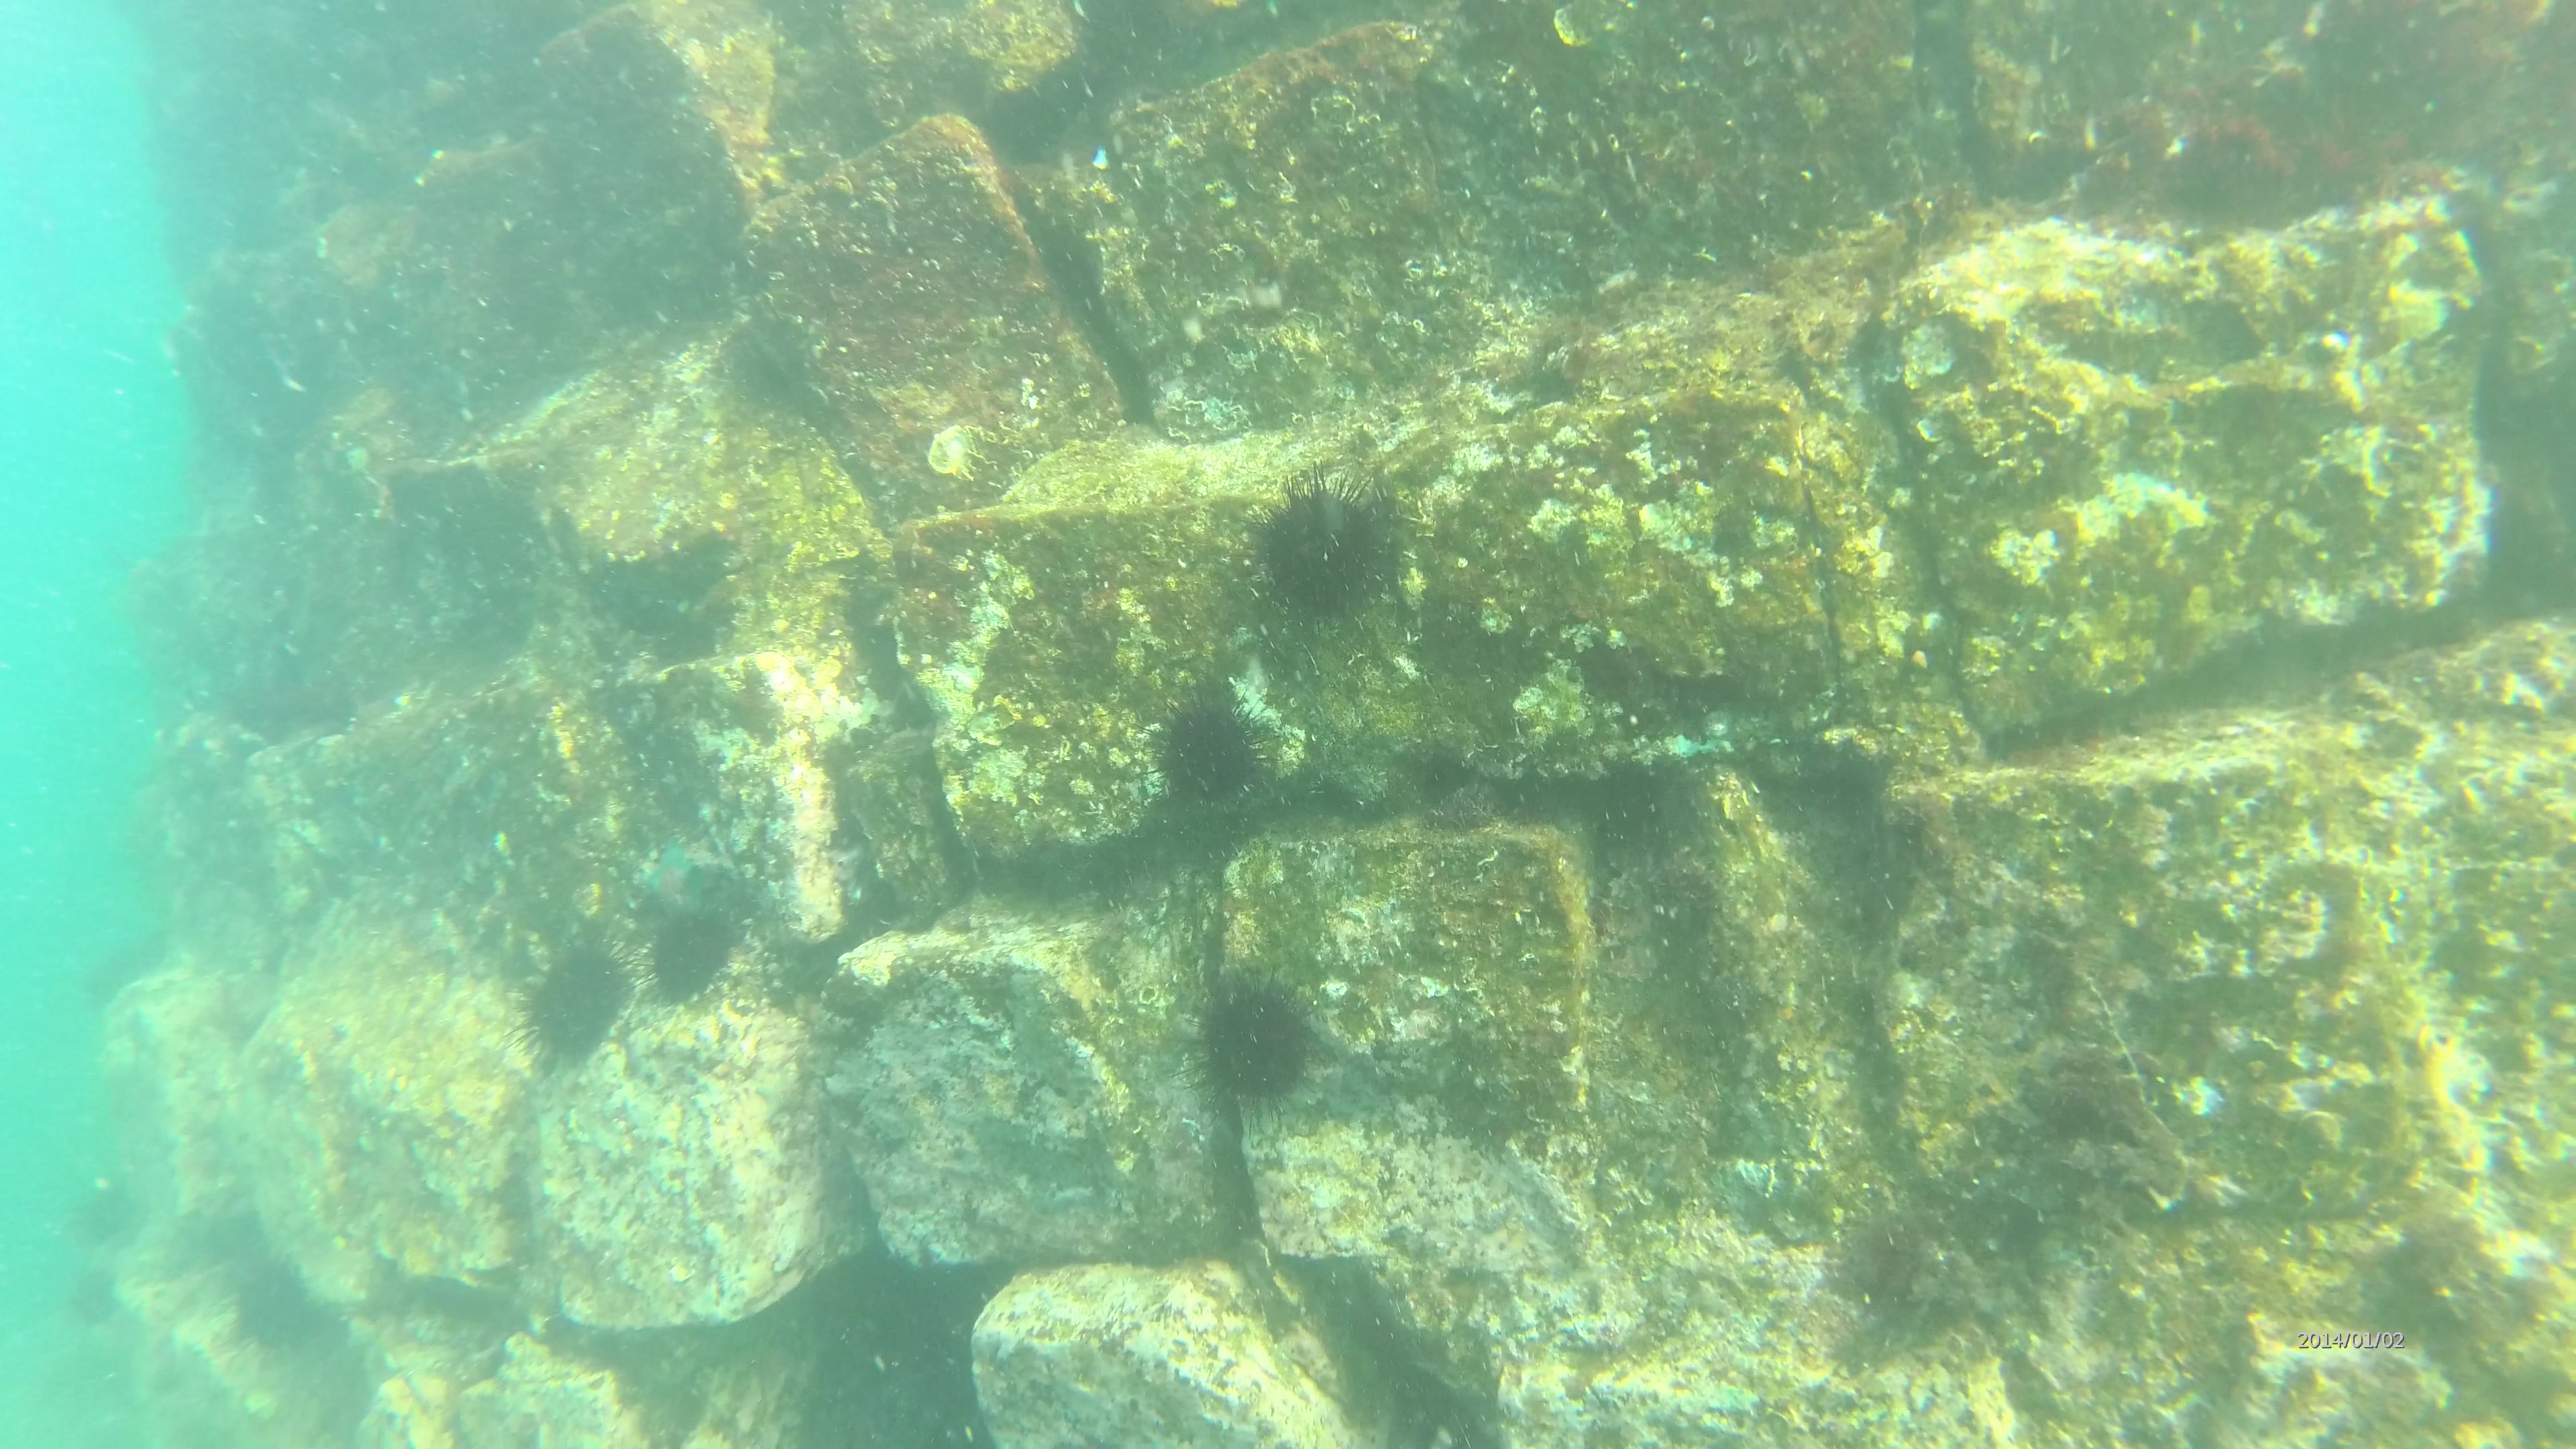echinus: (1173, 957, 1329, 1122), (1253, 467, 1405, 625), (1125, 678, 1286, 824), (506, 947, 635, 1065), (230, 1258, 333, 1350), (653, 902, 731, 1001), (64, 1182, 161, 1253), (60, 1270, 131, 1322)
starfish: (637, 837, 711, 931)
